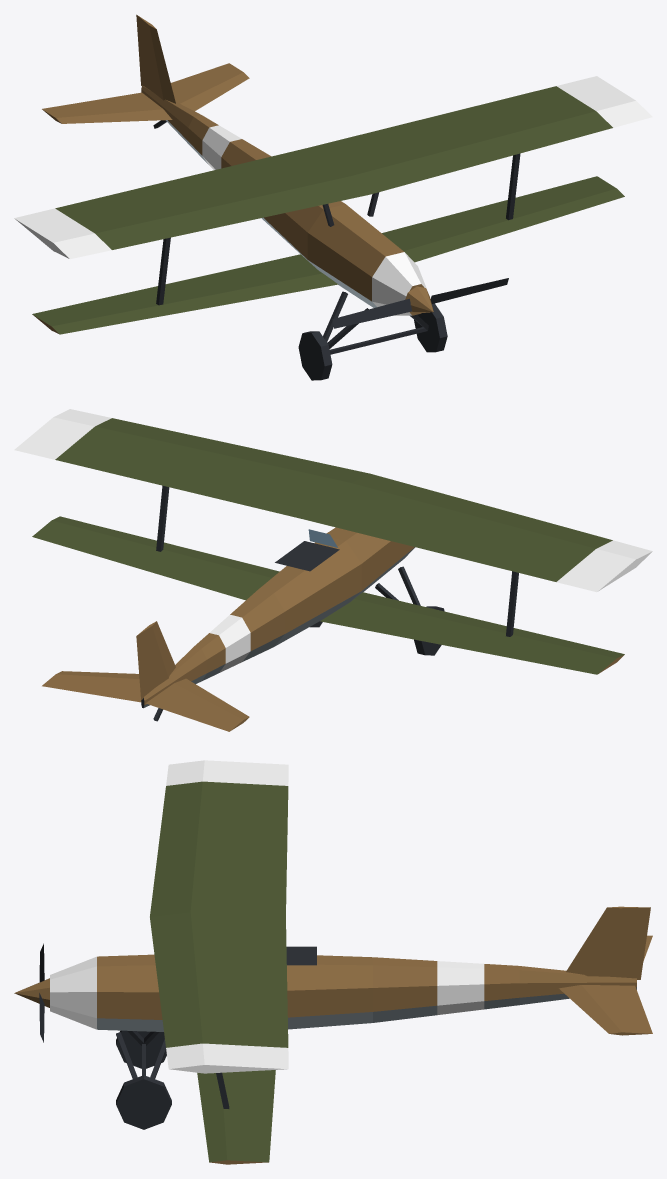
File: albatros_d3.glb
The picture shows the model from 3 angles, top to bottom: view 1: azimuth 30°, elevation 25°; view 2: azimuth 150°, elevation 25°; view 3: azimuth 270°, elevation 25°; orthographic projection. The views are drawn at different scales.
Parts seen in each view (by area): view 1: body, prop; view 2: body; view 3: body, prop.
Boxes of the visible parts, <box> form: body: <box>14,14,652,380</box>; prop: <box>332,278,508,328</box>; body: <box>14,409,652,731</box>; body: <box>50,760,652,1164</box>; prop: <box>14,943,49,1042</box>.
Bounding box in the file's own units: 9 × 2.62 × 7.98.
